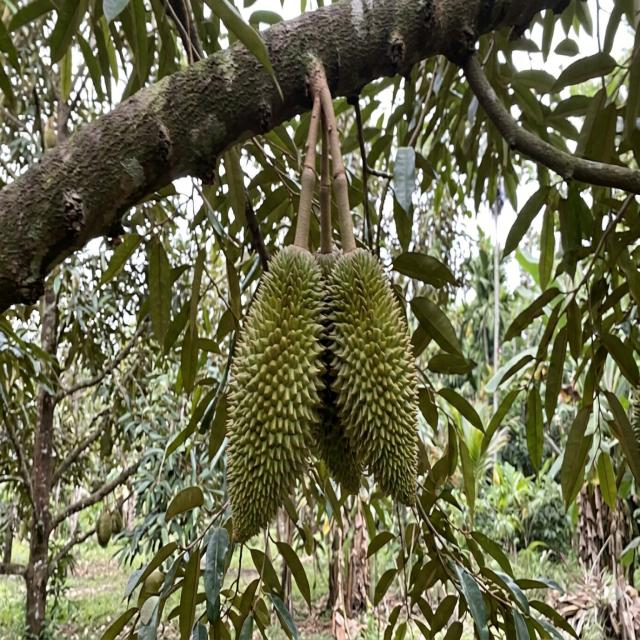immature: (225, 240, 330, 542), (319, 242, 419, 506), (96, 510, 113, 547), (111, 508, 123, 535)
